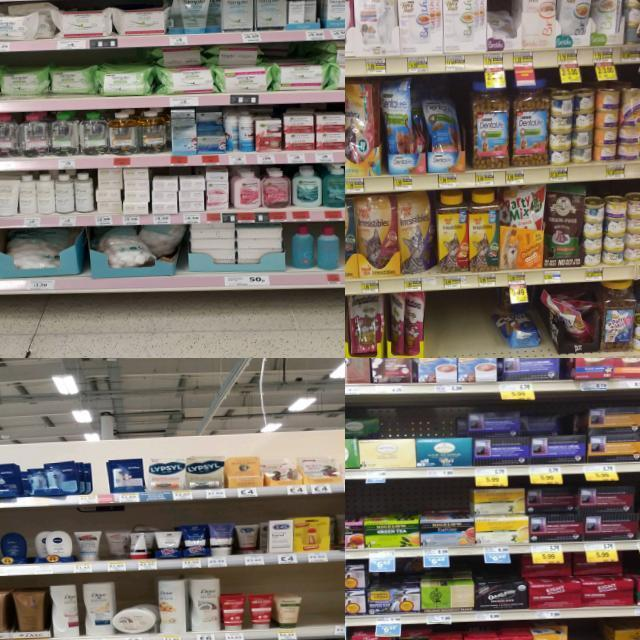Imprecise: (158, 47, 271, 99), (418, 87, 469, 175), (518, 407, 586, 461), (489, 294, 539, 354), (388, 286, 428, 353), (482, 0, 523, 55), (232, 518, 270, 555), (100, 528, 132, 560)
